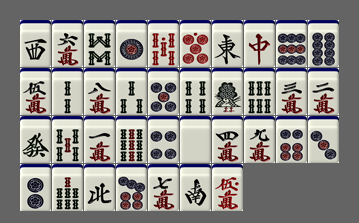0m: (212, 164, 243, 211)
0p: (180, 20, 211, 67)
0s: (148, 20, 179, 67)
1m: (84, 116, 115, 163)
1p: (116, 20, 147, 67)
1s: (212, 68, 243, 115)
1z: (212, 20, 243, 67)
2m: (308, 68, 339, 115)
2p: (20, 164, 51, 211)
2s: (52, 68, 83, 115)
2z: (180, 164, 211, 211)
3m: (276, 68, 307, 115)
3p: (308, 116, 339, 163)
3s: (116, 68, 147, 115)
3z: (20, 20, 51, 67)
4m: (212, 116, 243, 163)
4p: (148, 116, 179, 163)
4s: (180, 68, 211, 115)
4z: (84, 164, 115, 211)
5m: (20, 68, 51, 115)
5p: (148, 68, 179, 115)
5s: (52, 116, 83, 163)
5z: (180, 116, 211, 163)
6m: (52, 20, 83, 67)
6p: (276, 116, 307, 163)
6s: (244, 68, 275, 115)
6z: (20, 116, 51, 163)
7m: (148, 164, 179, 211)
7p: (116, 164, 147, 211)
7s: (52, 164, 83, 211)
7z: (244, 20, 275, 67)
8m: (84, 68, 115, 115)
8p: (308, 20, 339, 67)
8s: (84, 20, 115, 67)
9m: (244, 116, 275, 163)
9p: (276, 20, 307, 67)
9s: (116, 116, 147, 163)
